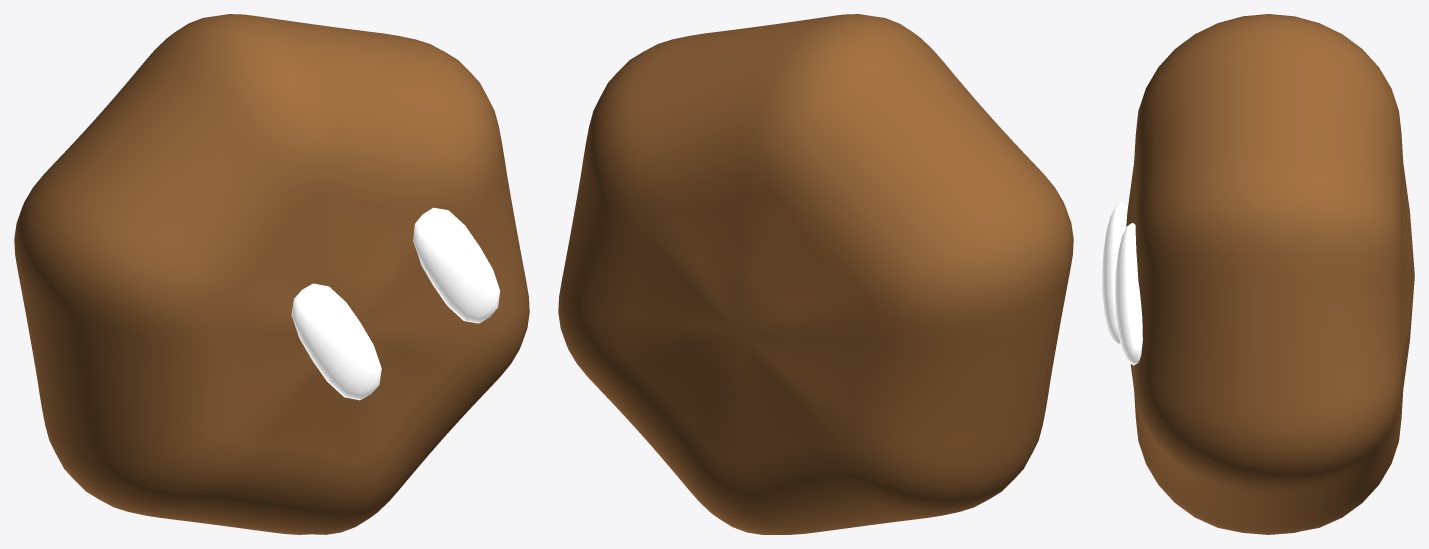
File: x-ads-manager.glb
3 views of the same model, side by side, from view 1: azimuth 30°, elevation 25°; view 2: azimuth 150°, elevation 25°; view 3: azimuth 270°, elevation 25° (orthographic). The views are drawn at different scales.
Parts seen in each view (by area): view 1: body, eye_L, eye_R; view 2: body; view 3: body, eye_R, eye_L.
Boxes of the visible parts, <box> form: body: <box>14,14,529,534</box>; eye_L: <box>291,283,381,400</box>; eye_R: <box>413,207,500,323</box>; body: <box>558,14,1073,534</box>; body: <box>1126,14,1414,534</box>; eye_R: <box>1115,223,1142,365</box>; eye_L: <box>1102,203,1127,345</box>.
Size of the model in its own units: 0.7741 by 0.7807 by 0.4707.
